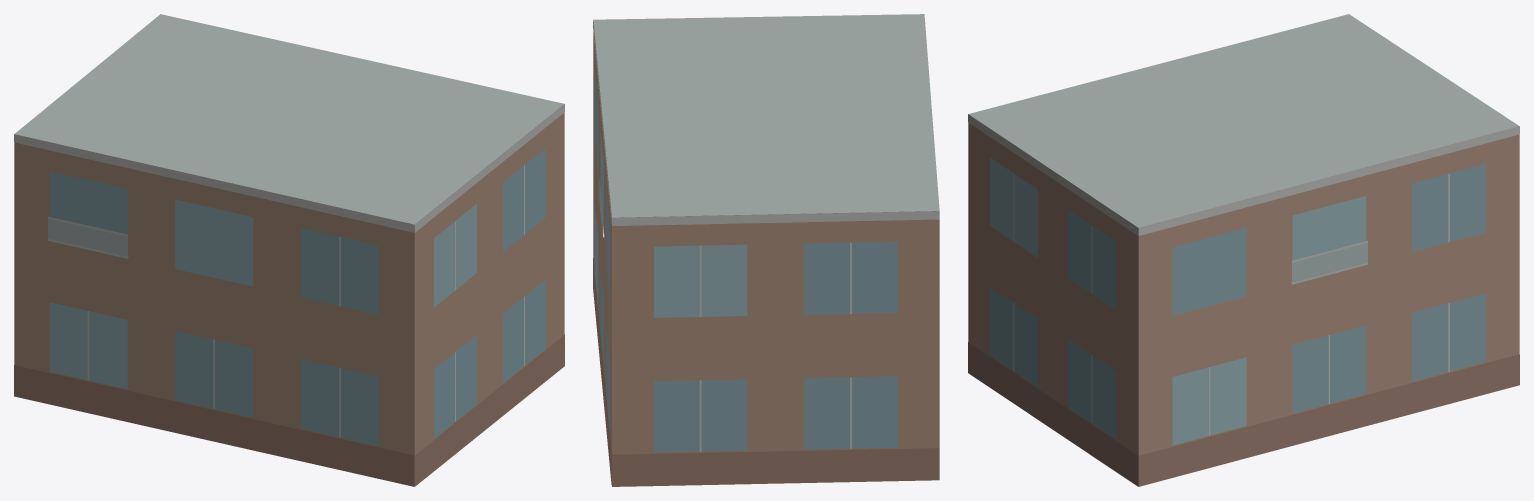
The model's file is survey-upis-32625091.glb.
3 renders of one model, left to right at view 1: azimuth 30°, elevation 25°; view 2: azimuth 150°, elevation 25°; view 3: azimuth 270°, elevation 25°, orthographic. The views are drawn at different scales.
Visible parts, largest first — view 1: survey-upis-32625091.tmp; view 2: survey-upis-32625091.tmp; view 3: survey-upis-32625091.tmp.
Part boxes in pixels (x1,y1,x2,y2): survey-upis-32625091.tmp: (14,14,564,486); survey-upis-32625091.tmp: (593,14,939,486); survey-upis-32625091.tmp: (968,14,1519,486).
Size of the model in its own units: 13.65 by 7.7 by 14.87.
